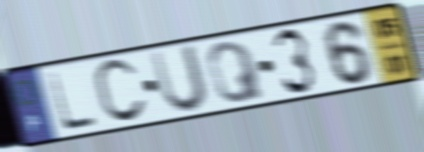3: (270, 26, 320, 96)
6: (322, 18, 375, 86)
C: (91, 56, 150, 126)
L: (45, 69, 101, 134)
Q: (204, 38, 268, 106)
U: (147, 42, 211, 116)
